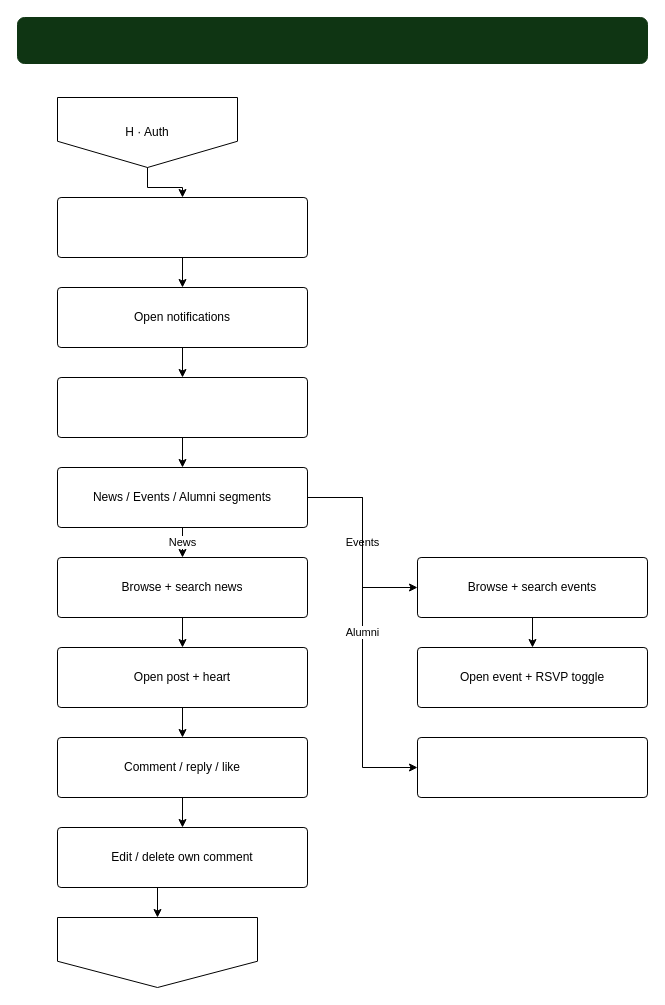
Some shapes in this 665 by 1005 pixel diagram are drawn without their labels. Here are the shapes that lost their labels. From the top down, the centre of each, then its label:
At point (332, 40): "HOME & COMMUNITY".
At point (182, 227): "Home tiles (grad ⇄ correction)".
At point (182, 407): "Mark read / mark all read".
At point (532, 767): "Browse alumni directory".
At point (157, 952): "I → Career".
